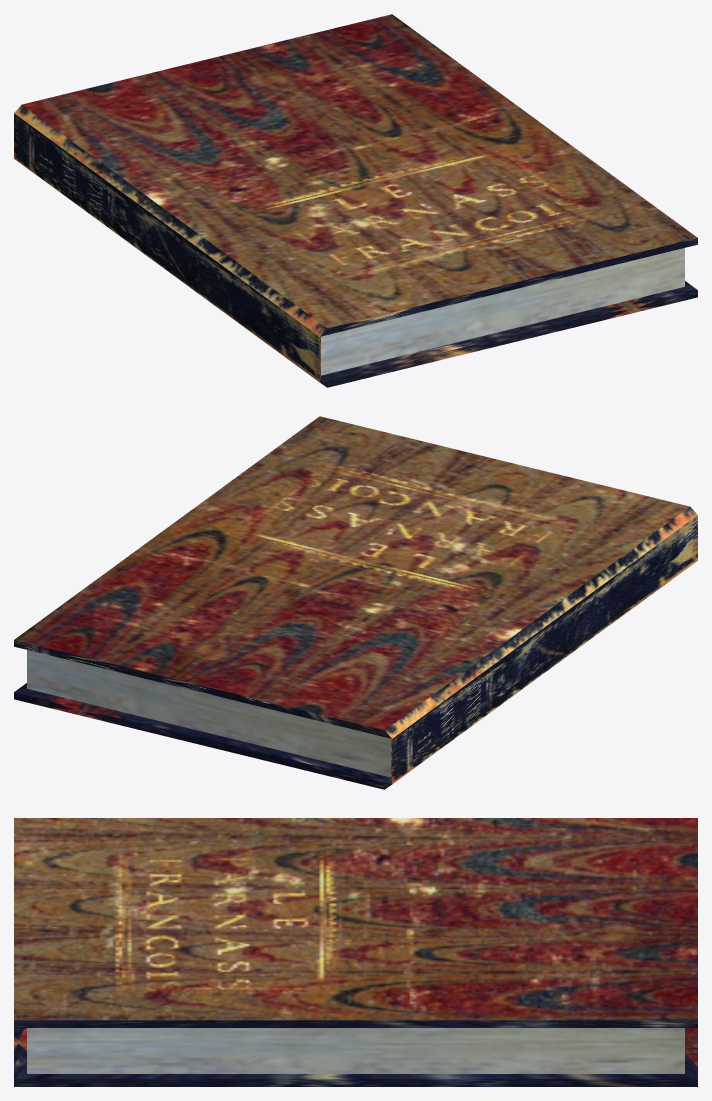
Rendered from book2.fbx.
3 views of the same model, one above another, from view 1: azimuth 30°, elevation 25°; view 2: azimuth 150°, elevation 25°; view 3: azimuth 270°, elevation 25° (orthographic). The views are drawn at different scales.
Parts seen in each view (by area): view 1: Book1; view 2: Book1; view 3: Book1.
Part boxes in pixels (<box>): Book1: <box>14,14,697,387</box>; Book1: <box>14,416,697,789</box>; Book1: <box>14,818,697,1086</box>.
Bounding box in the file's own units: 20 × 3 × 28.
1 material, 1 textured.
